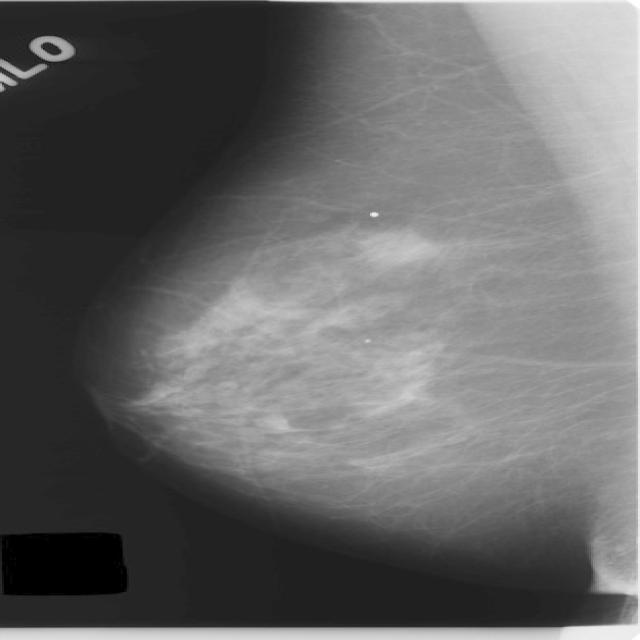tumour: (354, 226, 433, 264)
